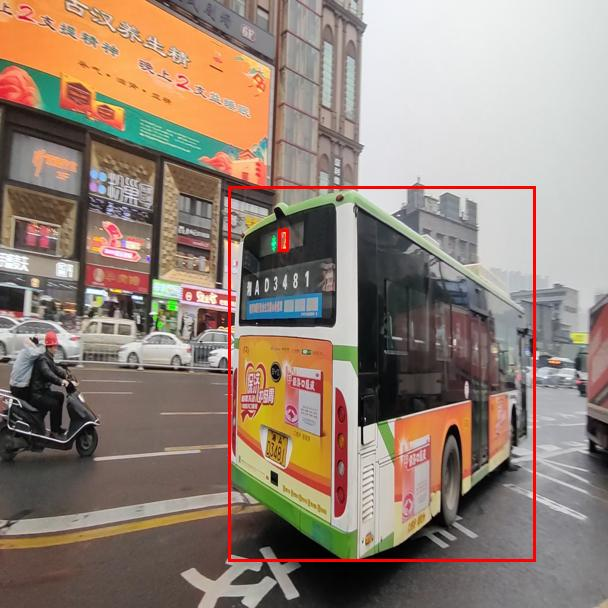bus: (228, 186, 535, 561)
screen: (278, 229, 288, 251)
